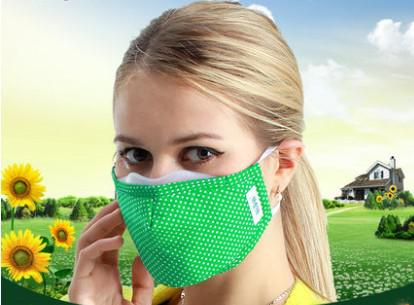OK: (105, 115, 276, 286)
